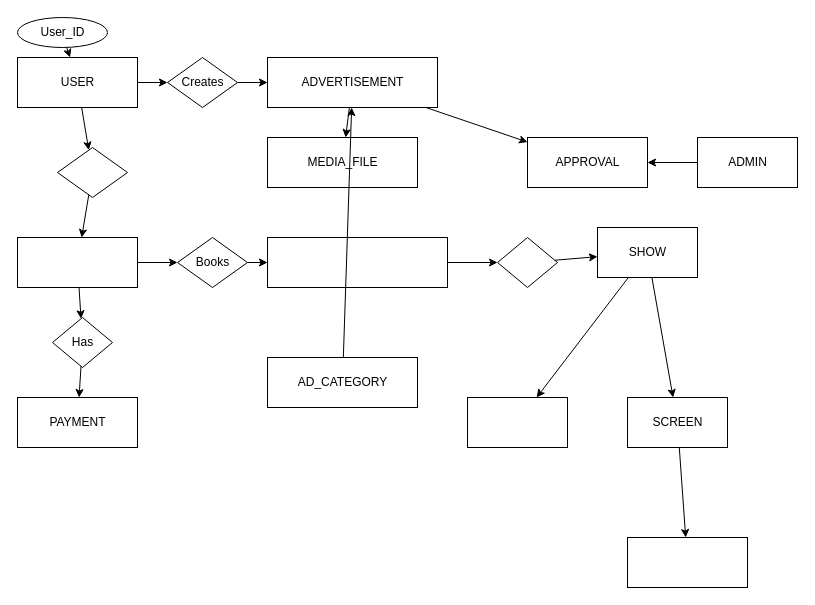
This 815x605 diagram has some shape labels left out. Each missing label, with the centre of its shape:
"ADVERTISEMENT_SLOT" belongs at (x=357, y=262).
"BOOKING" belongs at (x=77, y=262).
"Makes" belongs at (x=92, y=172).
"MOVIE" belongs at (x=517, y=422).
"Scheduled" belongs at (x=527, y=262).
"THEATRE" belongs at (x=687, y=562).
